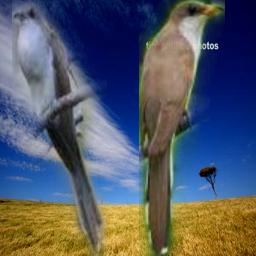Cuckoo: (12, 0, 107, 256), (139, 0, 225, 256)
